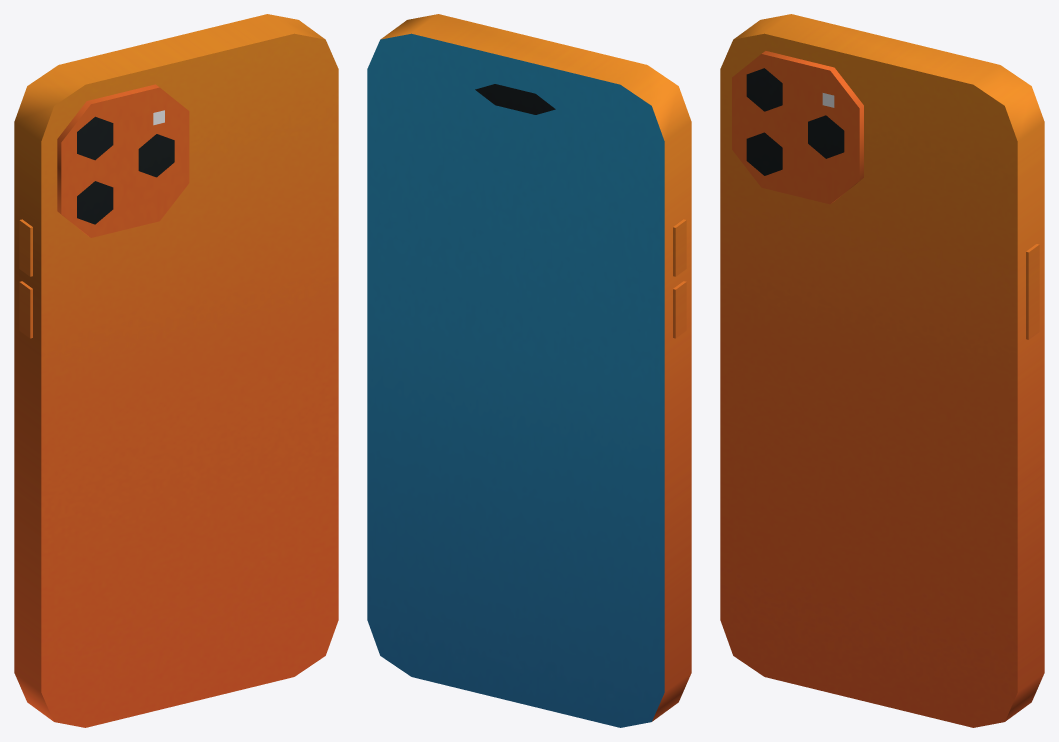
File: Chamo_Props.glb
The picture shows the model from 3 angles, left to right: view 1: azimuth 30°, elevation 25°; view 2: azimuth 150°, elevation 25°; view 3: azimuth 330°, elevation 25°; orthographic projection.
Parts seen in each view (by area): view 1: Phone; view 2: Phone; view 3: Phone.
Part boxes in pixels (left/top/right/bottom): Phone: left=14, top=14, right=338, bottom=727; Phone: left=367, top=14, right=691, bottom=727; Phone: left=720, top=14, right=1044, bottom=727.
Bounding box in the file's own units: 0.1234 × 0.25 × 0.0228.
Materials: 1 (1 with a texture image).
